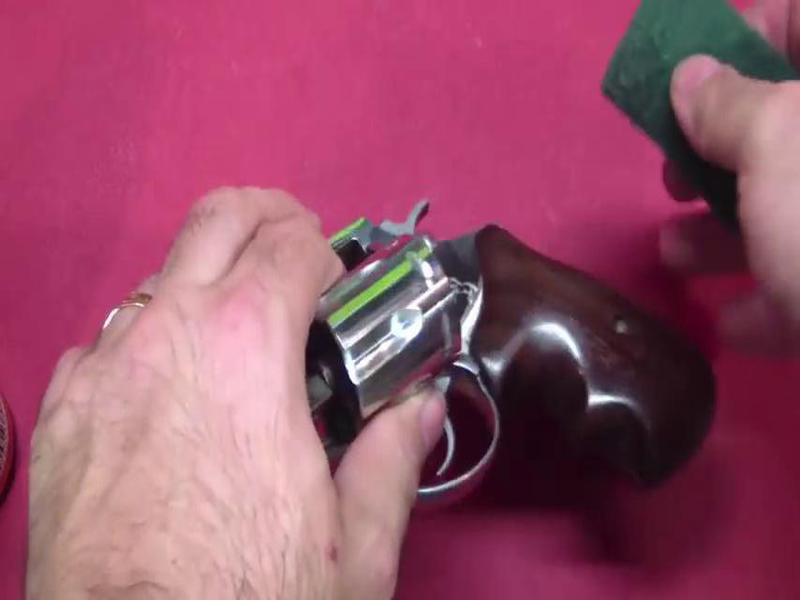Revolver: (141, 210, 708, 504)
